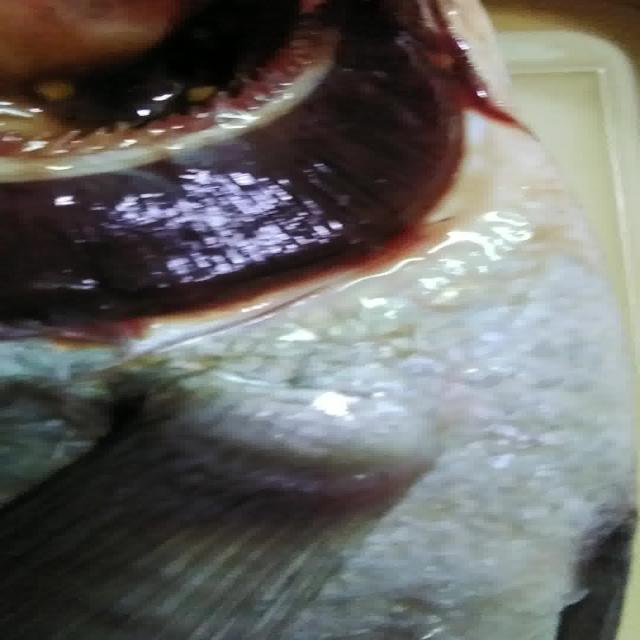Non-Fresh: (6, 8, 464, 352)
